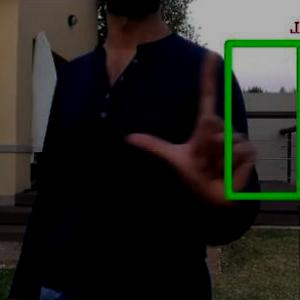land_hand: (114, 44, 265, 216)
